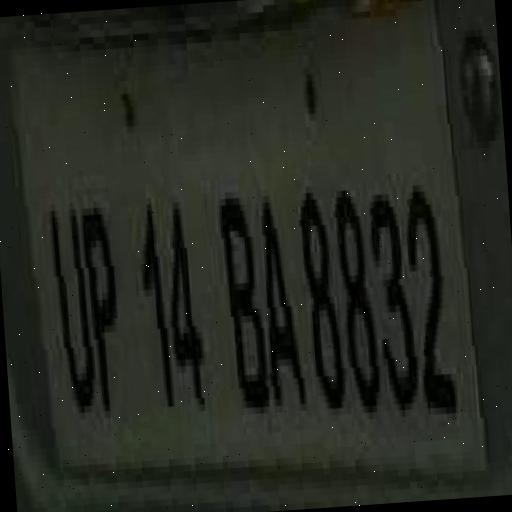number plate: (9, 3, 512, 488)
